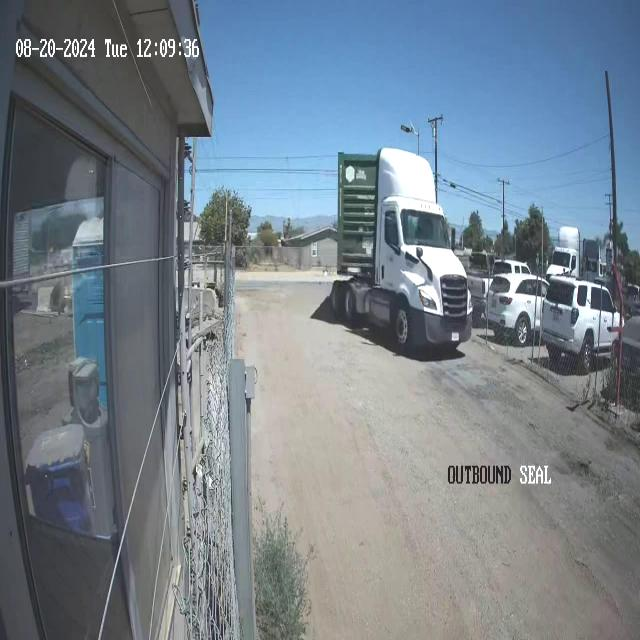TRUCK_CONTAINER: (329, 145, 474, 355)
